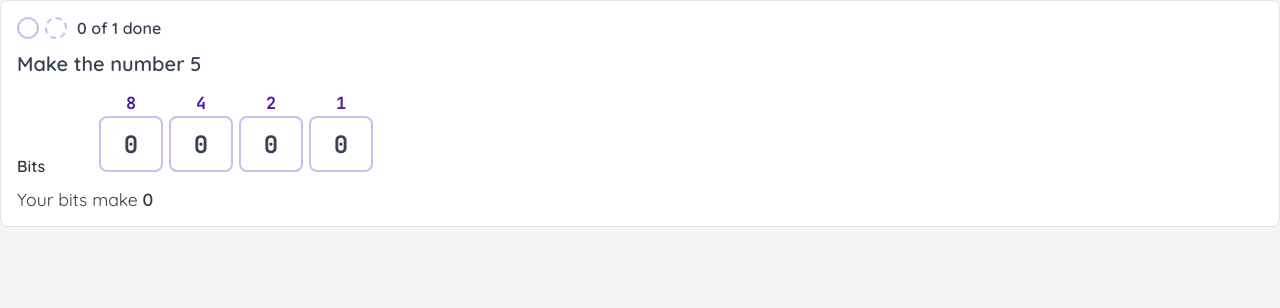
Test: Binary UI: core and bonus rounds › shows the bonus moment once the core is done and labels later items Bonus
Click the switch named "Bits 4 column": (201, 144) [169,116,233,172]
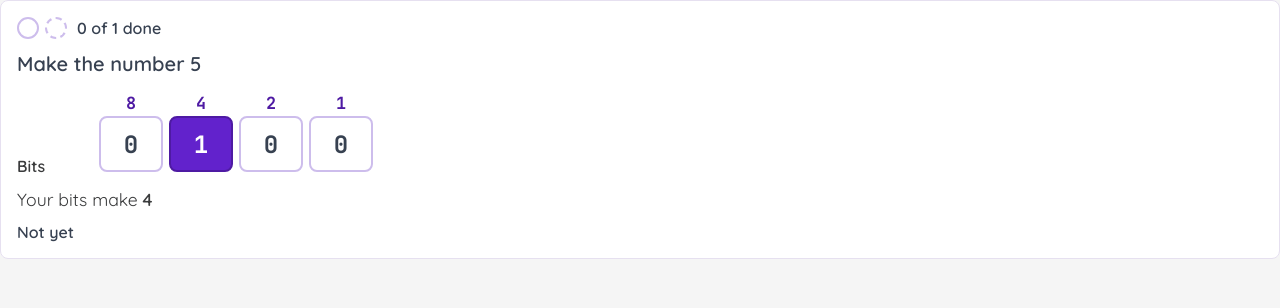
Click the switch named "Bits 1 column": (341, 144) [309,116,373,172]
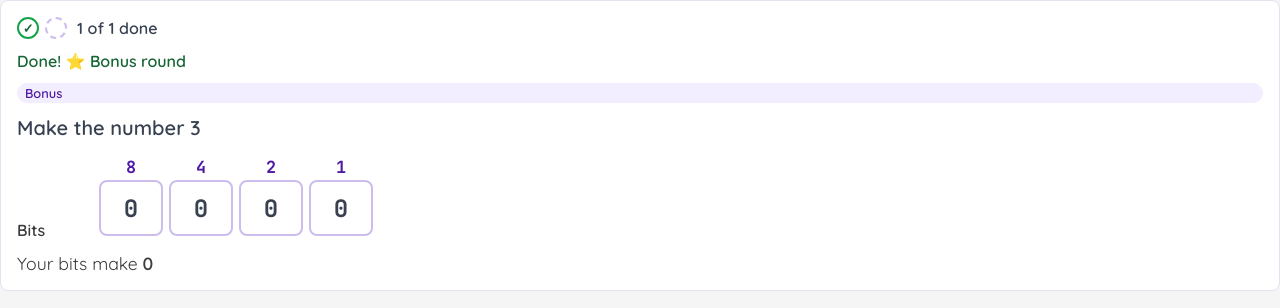
Now the text "Done! ⭐ Bonus round" is shown, box [17,51,186,71]
Now the text "Make the number 3" is shown, box [17,115,201,140]
Now the text "Bonus" is shown, box [17,83,1263,103]
